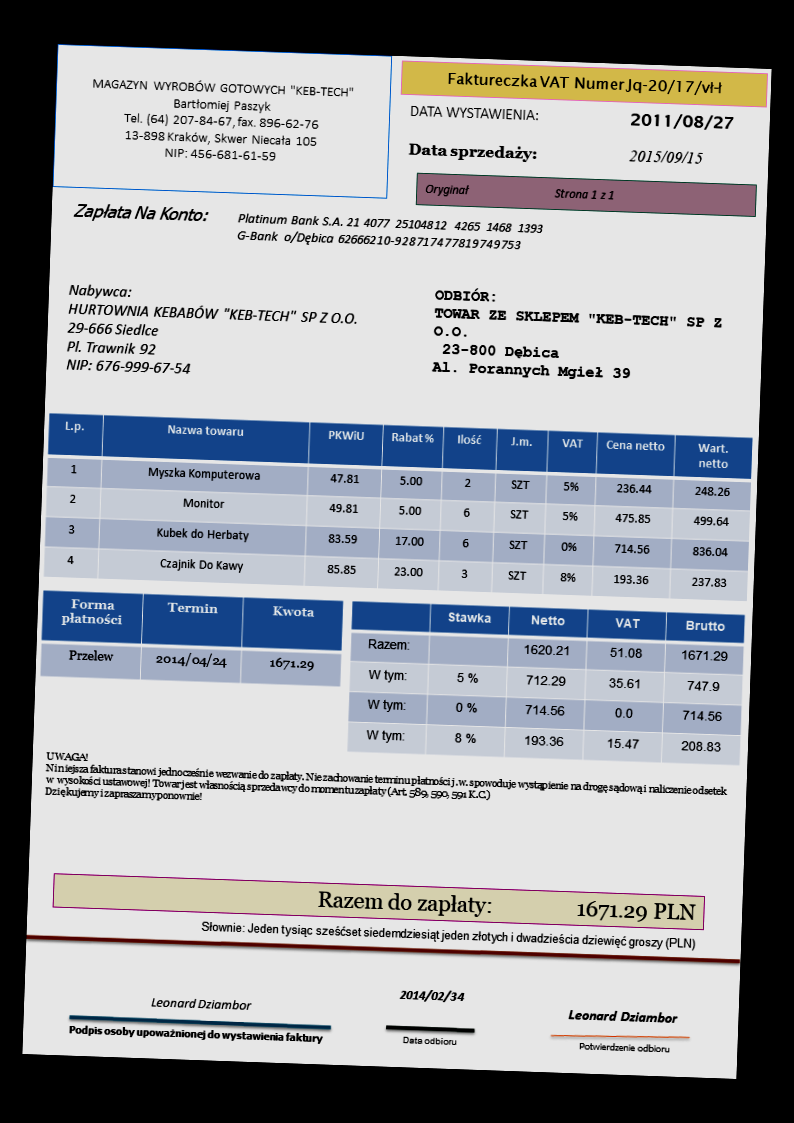Table: (42, 411, 754, 603), (345, 600, 746, 767), (39, 588, 344, 689)
TextBox: (42, 749, 730, 824), (429, 283, 728, 387), (62, 280, 359, 383), (87, 74, 357, 168), (199, 916, 696, 954), (315, 886, 699, 927), (234, 210, 547, 256), (444, 68, 723, 98), (66, 1021, 326, 1047), (423, 182, 614, 205), (71, 200, 210, 227), (406, 140, 540, 164), (407, 101, 540, 125), (628, 111, 735, 135), (565, 1006, 678, 1026), (148, 994, 255, 1014), (628, 147, 704, 167), (577, 1040, 671, 1055), (398, 986, 466, 1005), (399, 1032, 458, 1049)
